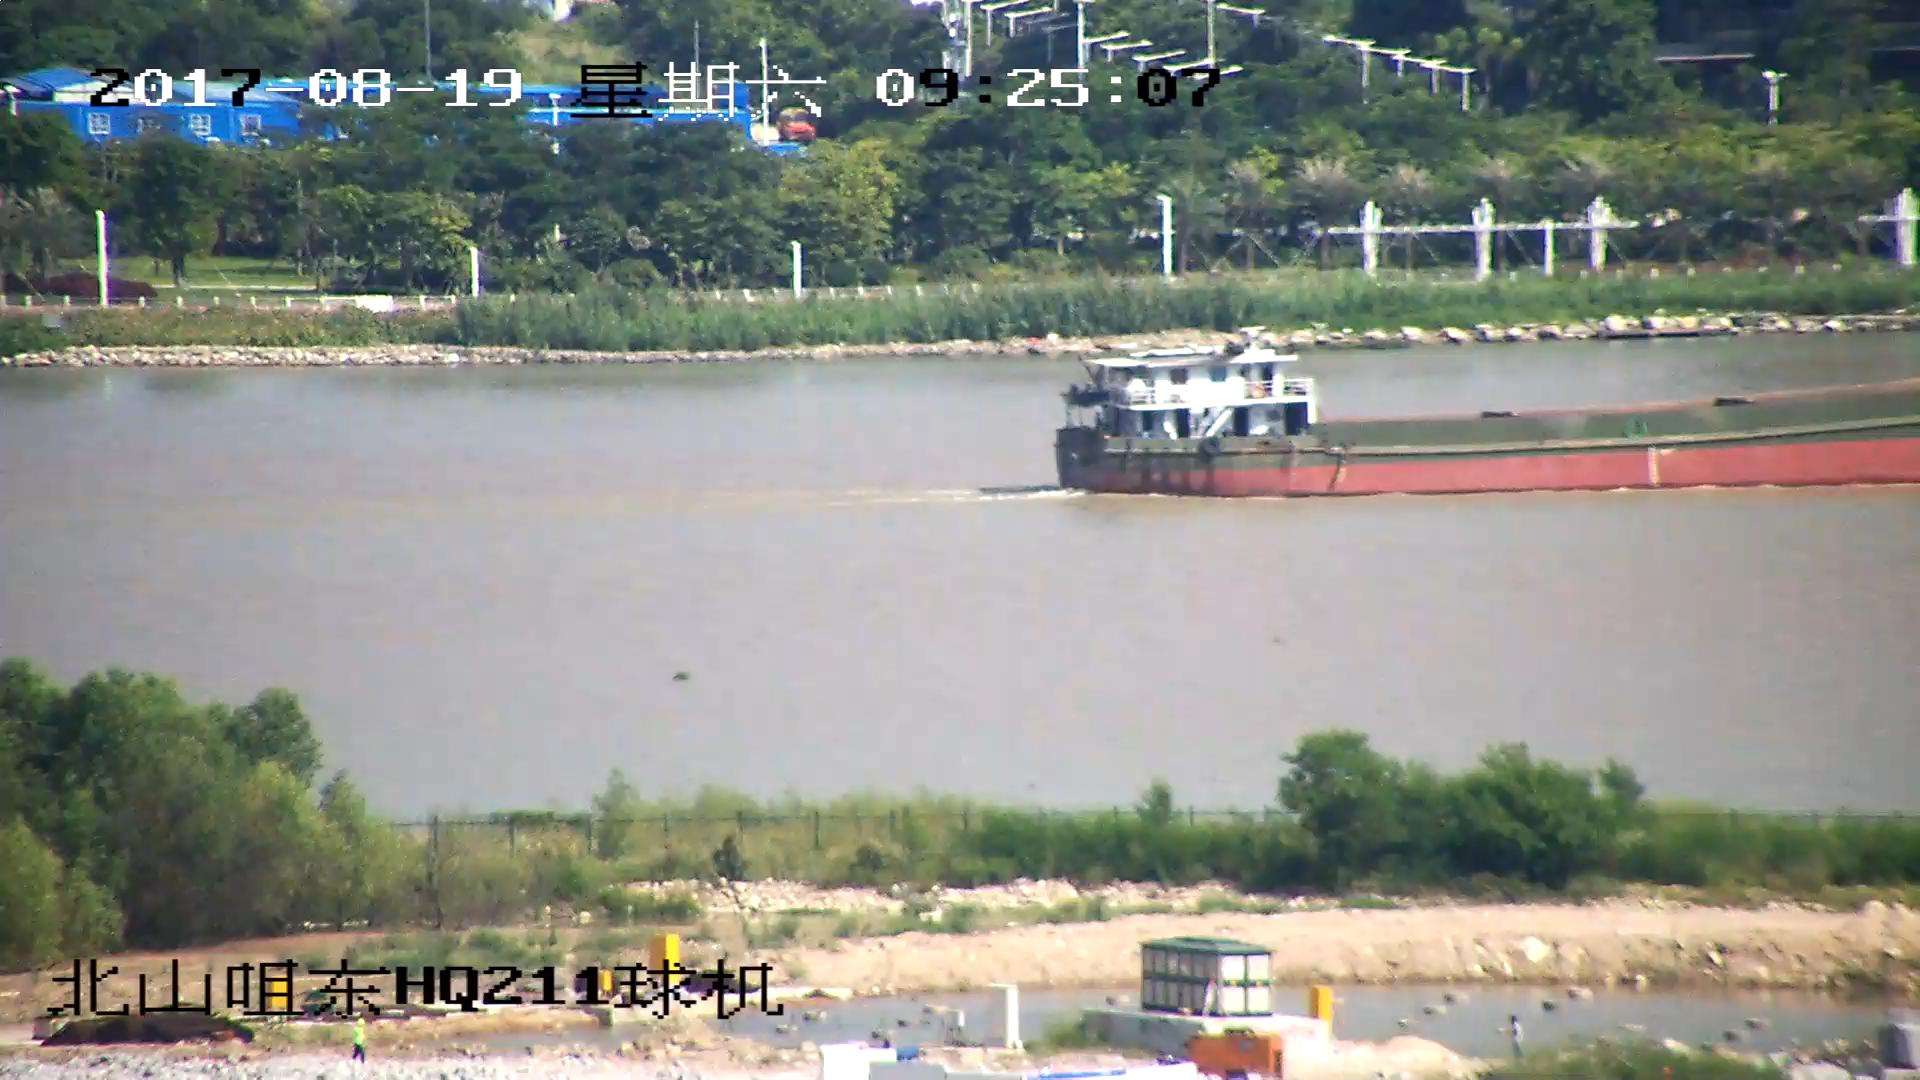bulk cargo carrier: (1049, 335, 1920, 494)
